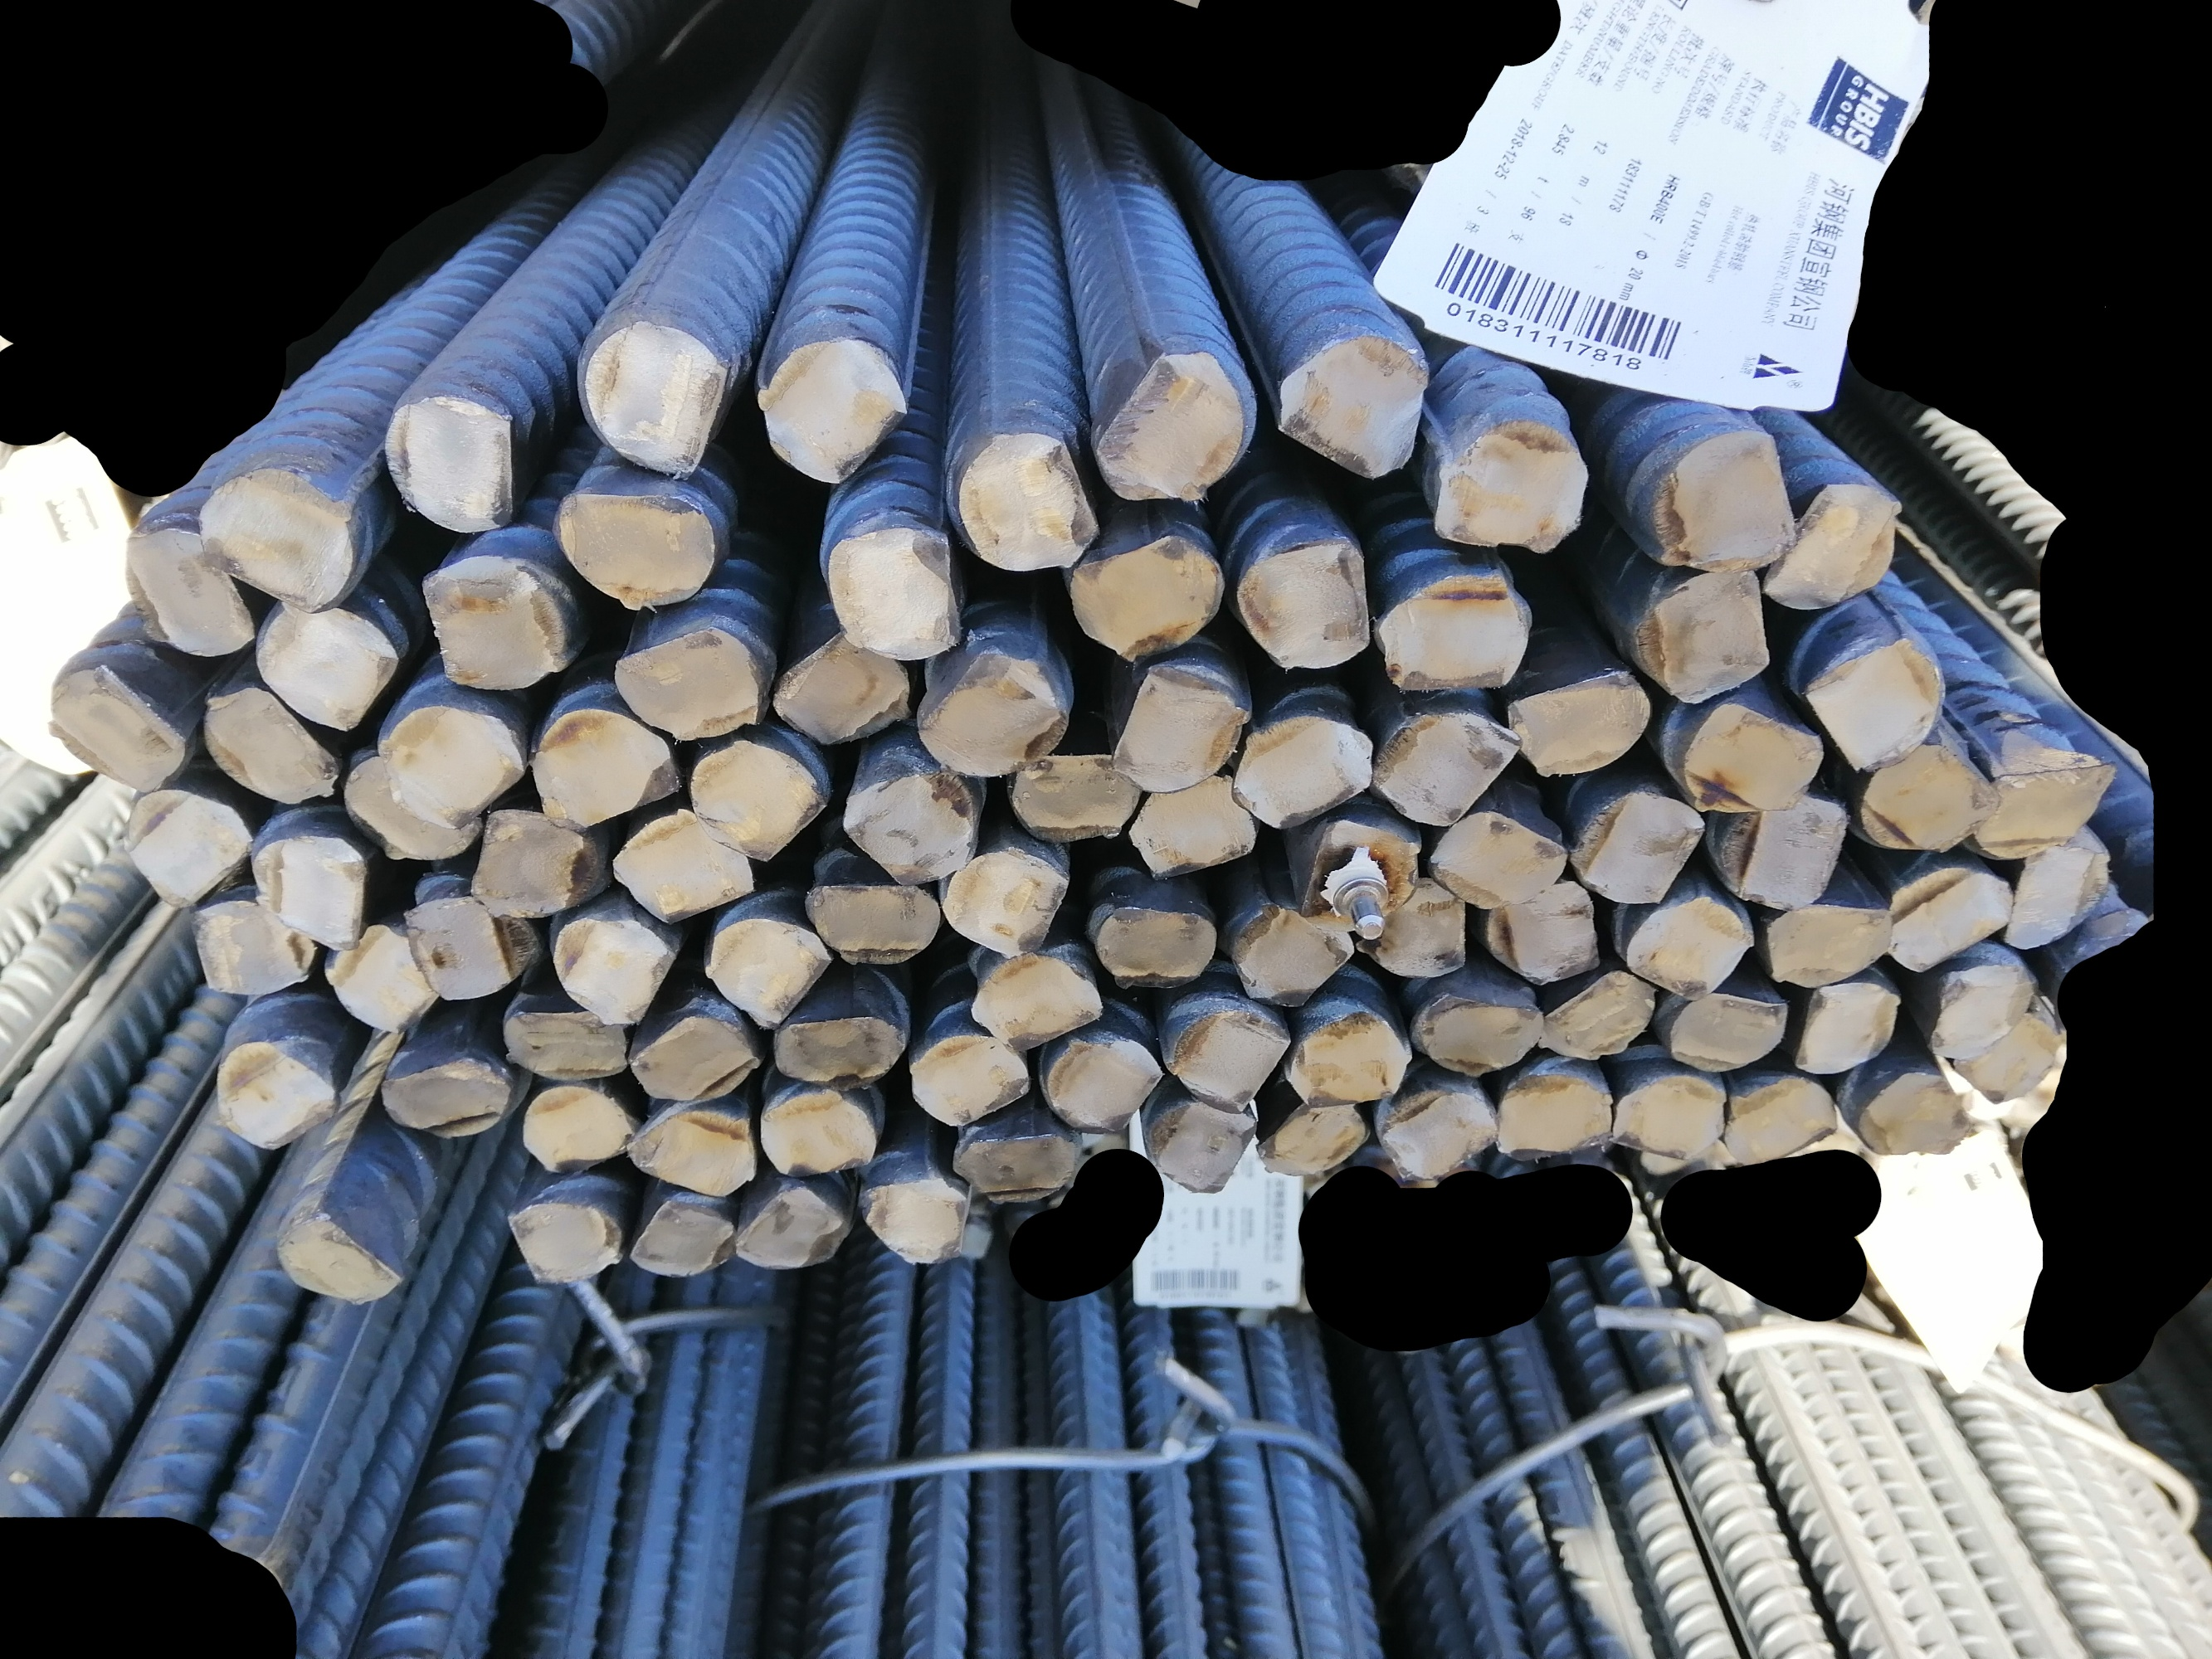rebar: (1089, 350, 1246, 509), (193, 469, 356, 613), (755, 336, 908, 486), (584, 319, 729, 477), (553, 481, 716, 620), (1279, 328, 1422, 483), (424, 552, 580, 692), (1438, 415, 1588, 558), (830, 511, 969, 664), (1651, 432, 1799, 575), (253, 596, 403, 735), (955, 432, 1105, 572), (919, 647, 1069, 784), (1070, 532, 1225, 664), (1632, 570, 1776, 708), (1797, 636, 1944, 770), (380, 702, 526, 831), (772, 620, 919, 749), (383, 397, 519, 535), (687, 734, 828, 866), (47, 666, 187, 796), (535, 704, 682, 828), (1382, 572, 1529, 695), (120, 528, 258, 659), (1374, 711, 1522, 831), (1768, 479, 1900, 612), (1116, 660, 1246, 795), (1675, 701, 1825, 817), (614, 624, 763, 739), (1243, 542, 1374, 673), (607, 810, 757, 924), (200, 688, 343, 807), (1232, 711, 1370, 829), (842, 772, 978, 887), (1571, 788, 1701, 906), (702, 917, 837, 1032), (1508, 673, 1652, 779), (1431, 805, 1576, 911), (120, 789, 248, 908), (207, 1039, 338, 1154), (938, 845, 1069, 960), (1717, 795, 1848, 910), (345, 755, 485, 861), (551, 913, 676, 1030), (471, 807, 601, 918), (1300, 816, 1422, 934), (1982, 756, 2120, 859), (1860, 749, 1996, 852), (1626, 894, 1754, 1004), (251, 835, 370, 951), (322, 917, 439, 1035), (185, 894, 319, 997), (1886, 864, 2012, 974), (628, 1093, 760, 1195), (1126, 775, 1259, 877), (1231, 901, 1354, 1009), (971, 951, 1100, 1053), (626, 1014, 762, 1110), (1166, 1004, 1285, 1114), (1487, 880, 1609, 983), (1414, 988, 1550, 1079), (809, 877, 941, 969), (1044, 1033, 1163, 1136), (406, 894, 518, 1002), (275, 1209, 397, 1307), (910, 1030, 1032, 1127), (1093, 901, 1225, 990), (1008, 751, 1137, 842), (758, 1082, 877, 1180), (1536, 965, 1656, 1061), (2006, 842, 2111, 951), (1762, 901, 1893, 988), (1293, 1012, 1410, 1108), (1379, 1087, 1501, 1178), (1666, 988, 1792, 1075), (383, 1054, 511, 1140), (519, 1082, 634, 1175), (1372, 873, 1469, 981), (736, 1182, 847, 1274), (1794, 983, 1905, 1075), (509, 1197, 622, 1288), (1611, 1072, 1726, 1161), (1933, 964, 2038, 1060), (1958, 1007, 2059, 1105), (1494, 1075, 1614, 1157), (1154, 1101, 1260, 1194), (861, 1175, 969, 1265), (1858, 1068, 1966, 1157), (502, 1006, 629, 1080), (1724, 1080, 1835, 1166), (776, 1016, 906, 1086), (959, 1133, 1075, 1206), (633, 1197, 736, 1279), (1260, 1098, 1370, 1175)
